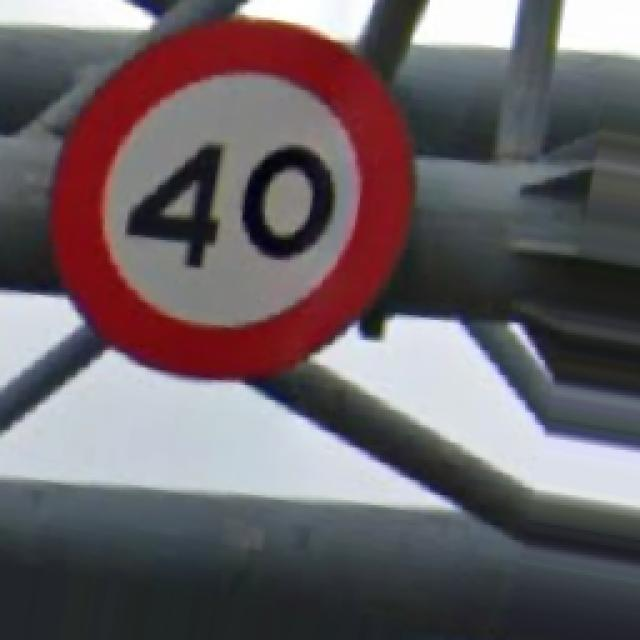Speed Limit -40-: (52, 18, 410, 378)
